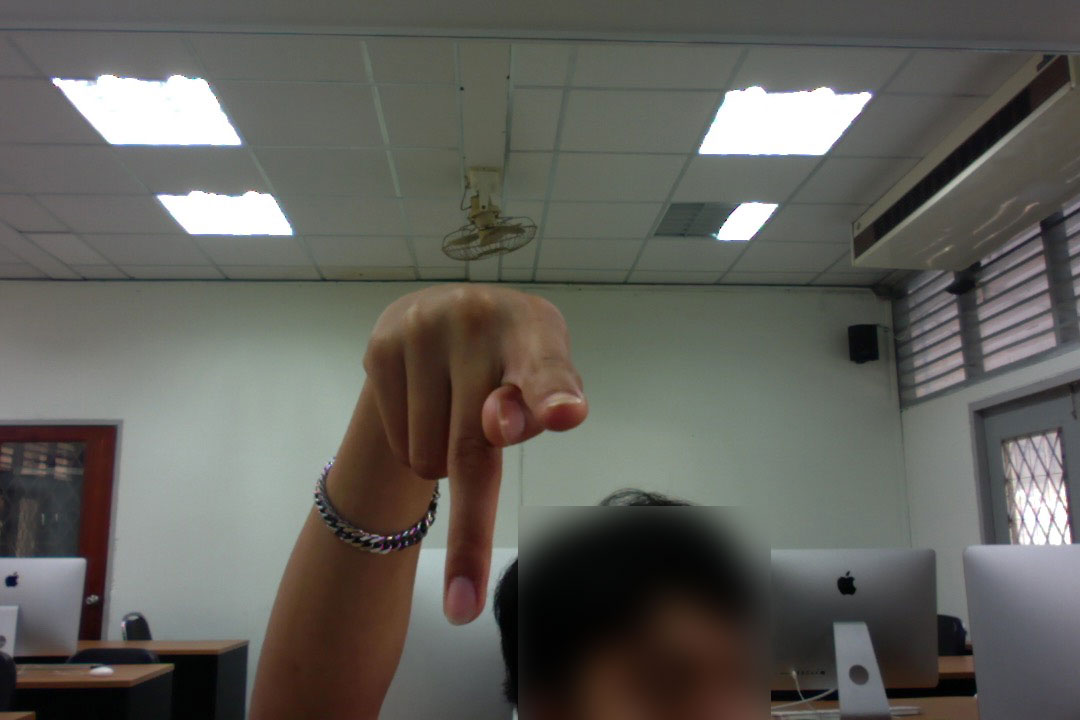por: (344, 272, 598, 636)
